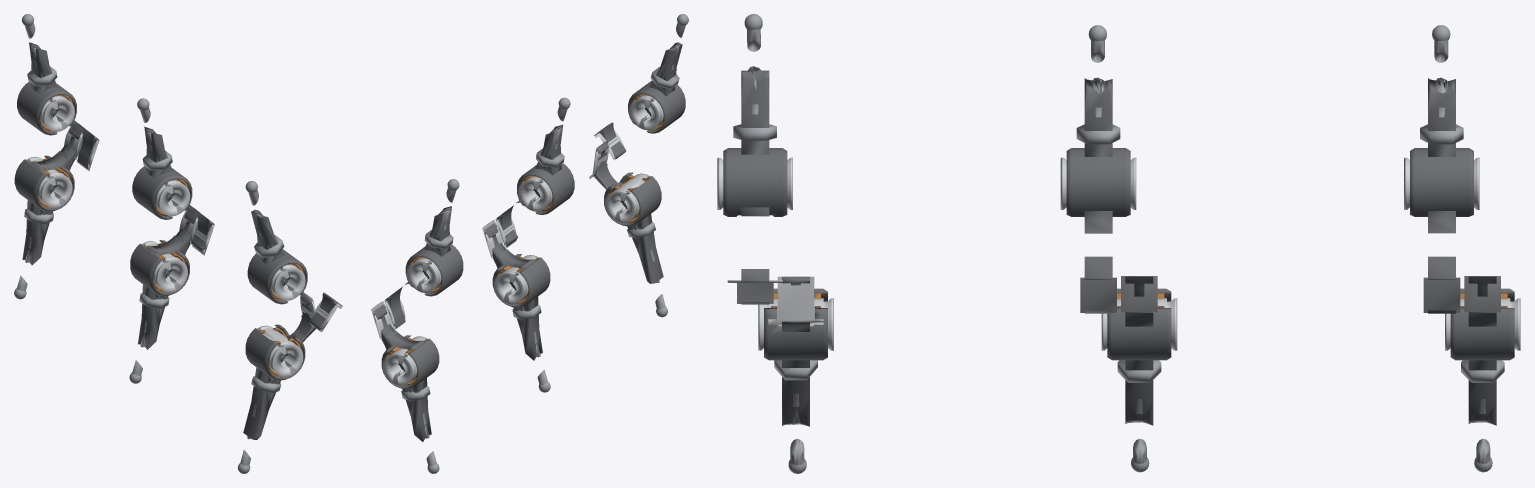
The model's file is rockers-left.glb.
3 renders of one model, left to right at view 1: azimuth 30°, elevation 25°; view 2: azimuth 150°, elevation 25°; view 3: azimuth 270°, elevation 25°, orthographic. The views are drawn at different scales.
Visible parts, largest first — view 1: rockers-left:forgedSteel, rockers-left:polishedSteel, rockers-left:steel, rockers-left:bronze; view 2: rockers-left:forgedSteel, rockers-left:polishedSteel, rockers-left:steel, rockers-left:bronze; view 3: rockers-left:forgedSteel, rockers-left:polishedSteel, rockers-left:steel.
Part boxes in pixels (x1,y1,x2,y2): rockers-left:forgedSteel: (14, 42, 337, 439); rockers-left:polishedSteel: (26, 96, 342, 376); rockers-left:steel: (14, 14, 284, 473); rockers-left:bronze: (28, 94, 303, 376); rockers-left:forgedSteel: (373, 42, 685, 441); rockers-left:polishedSteel: (371, 95, 663, 385); rockers-left:steel: (401, 14, 688, 473); rockers-left:bronze: (385, 94, 663, 385); rockers-left:forgedSteel: (723, 70, 1514, 426); rockers-left:polishedSteel: (717, 157, 1520, 350); rockers-left:steel: (733, 14, 1504, 473).
Size of the model in its own units: 52.14 by 172 by 276.
